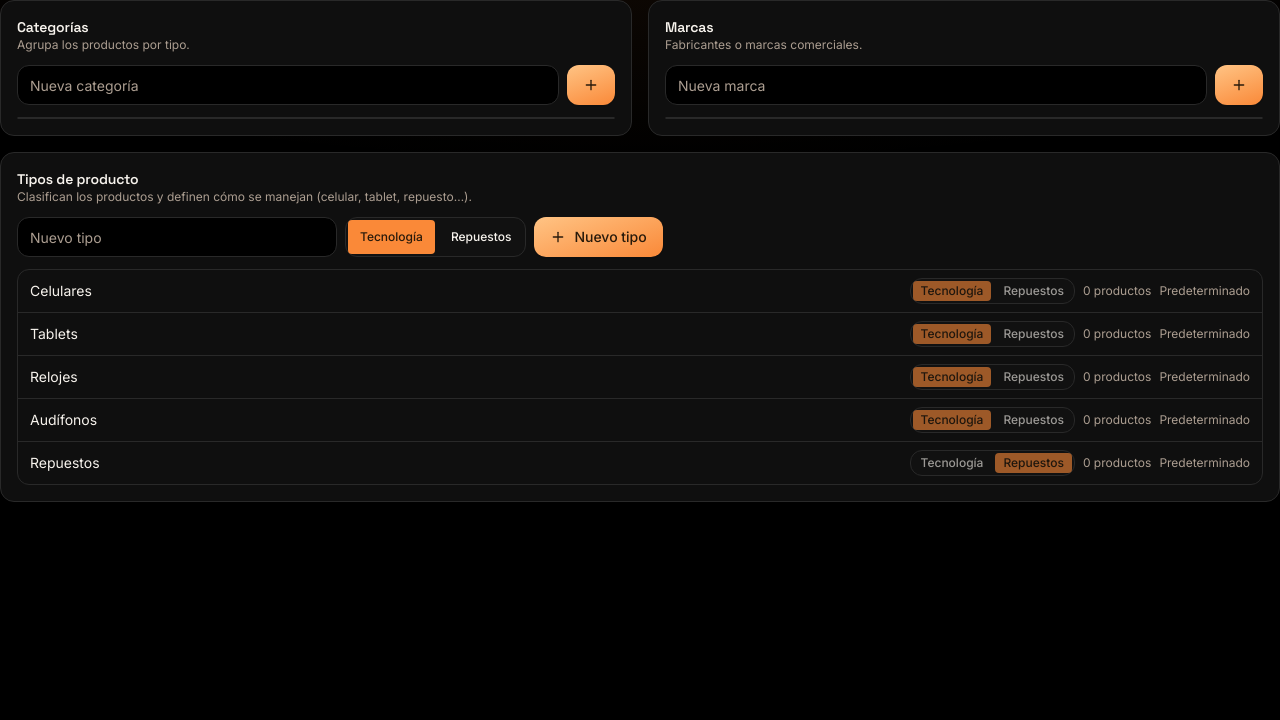
Test case: Administración > Catálogos > Tipos de producto › crea un tipo nuevo eligiendo el grupo mayorista, y aparece en la lista
Type "Parlantes" into the field with placeholder "Nuevo tipo" at {"x": 177, "y": 237}, box 17,217 -> 337,257
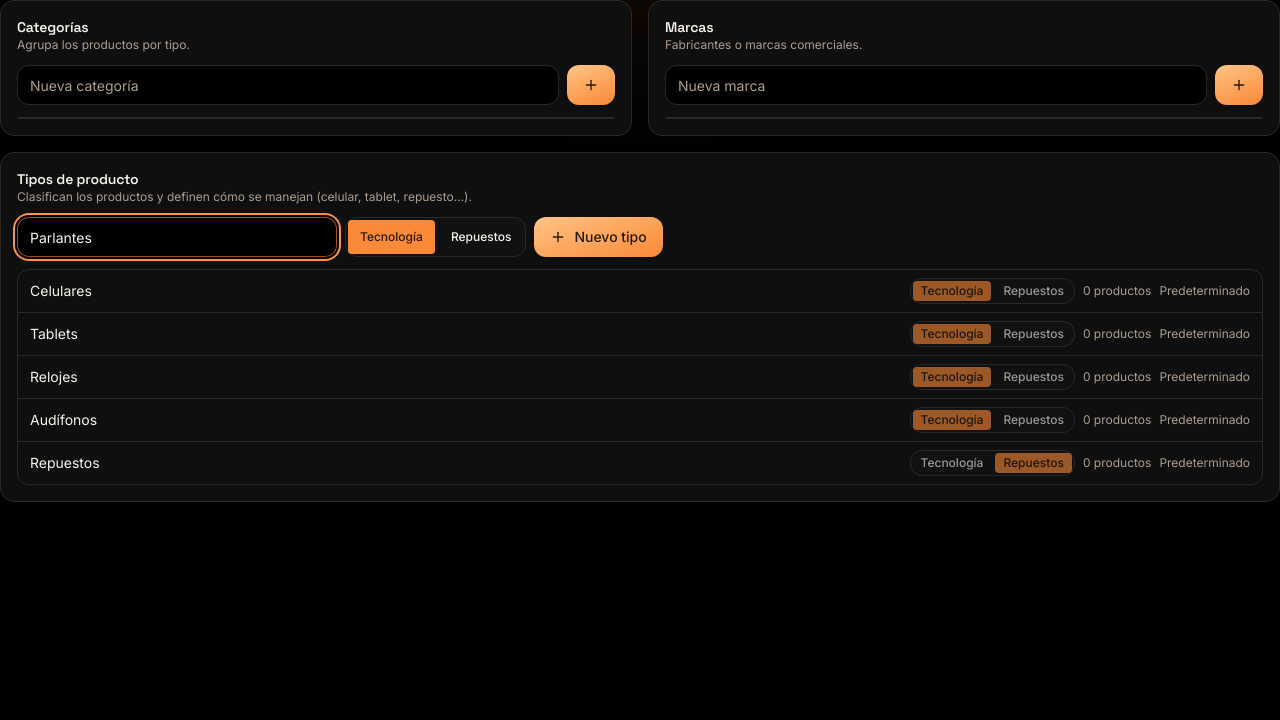
Click the 1st button "Repuestos" at {"x": 481, "y": 237}, box 439,220 -> 523,254
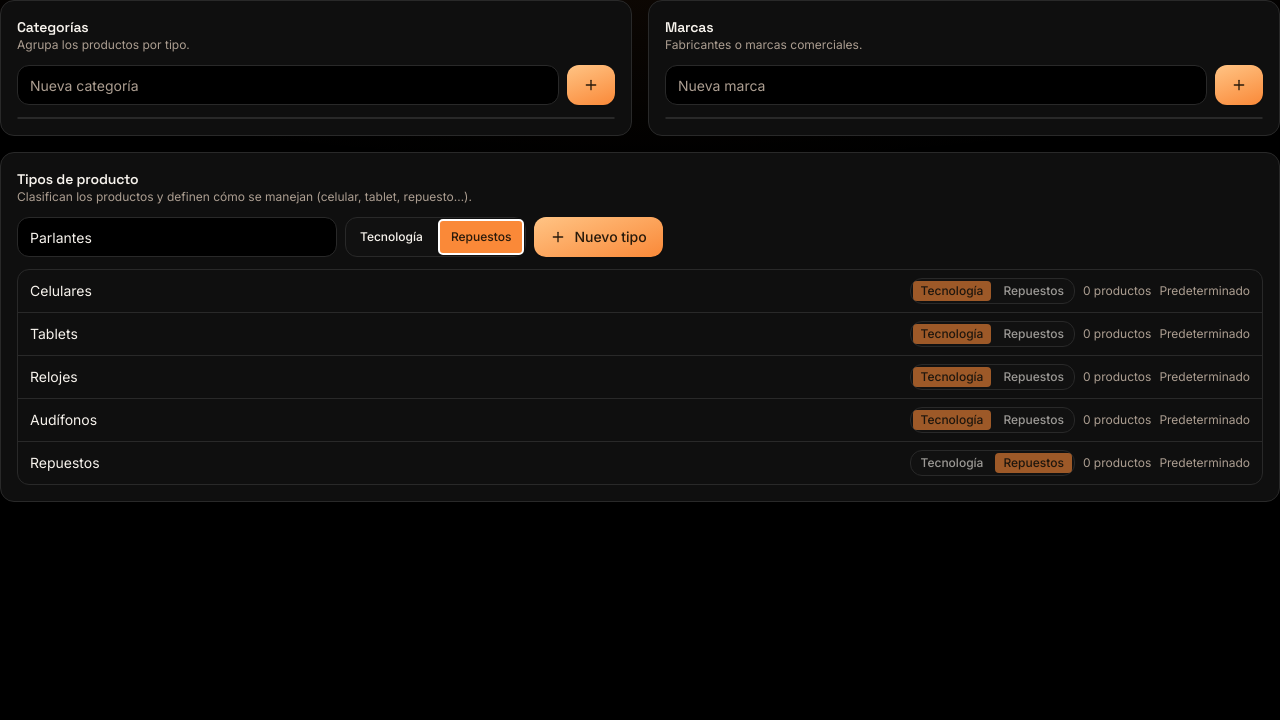
Click the button "Nuevo tipo" at {"x": 599, "y": 237}, box 534,217 -> 663,257
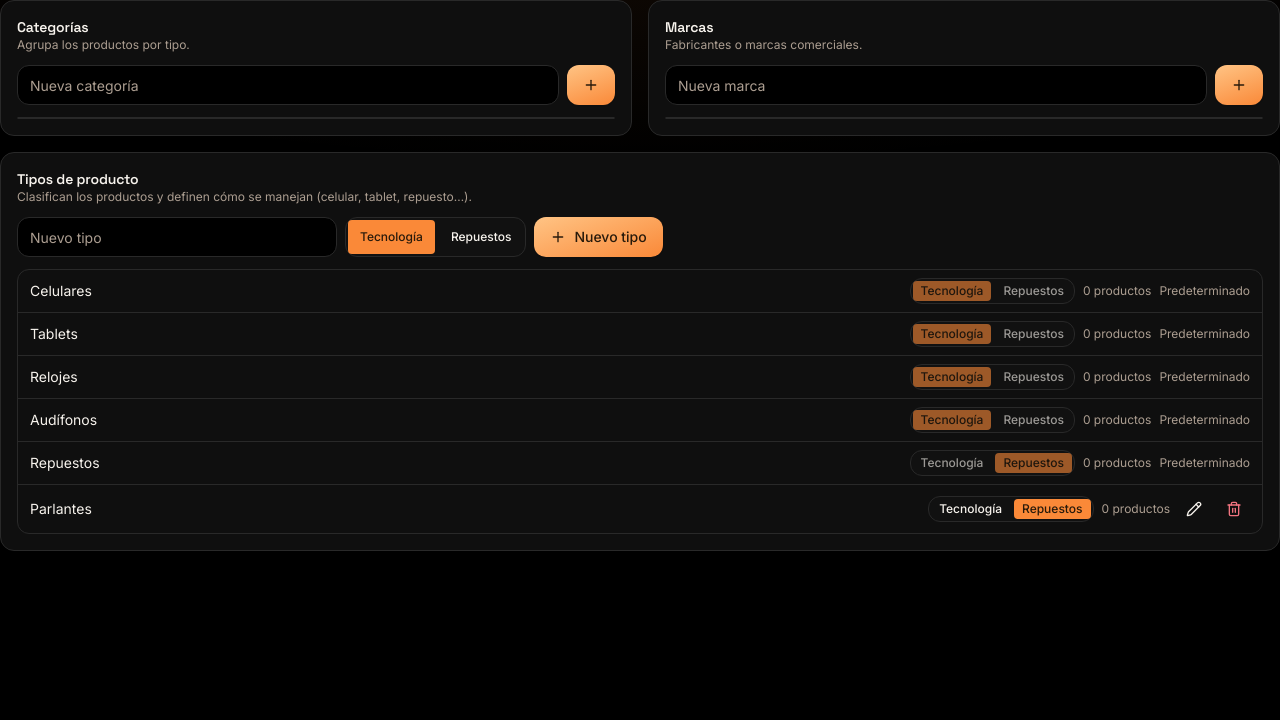
expect the text "Parlantes" is shown: met, box 30,500 -> 92,517
expect the button named "Eliminar" is shown: met, box 1218,493 -> 1250,525
